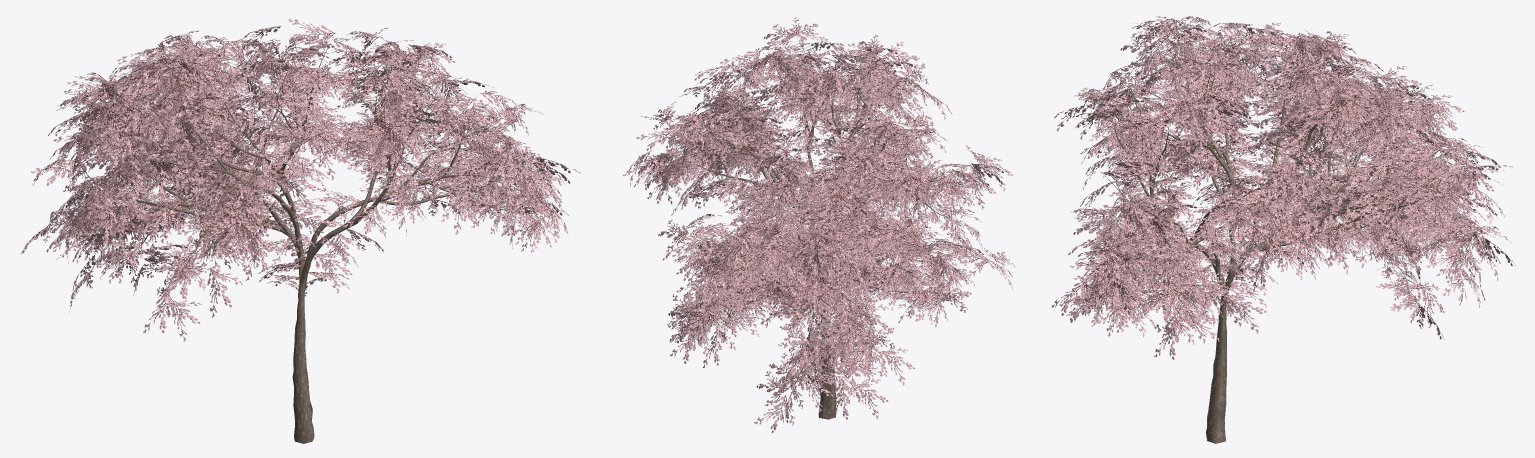
File: cherry-c.glb
The picture shows the model from 3 angles, left to right: view 1: azimuth 30°, elevation 25°; view 2: azimuth 150°, elevation 25°; view 3: azimuth 270°, elevation 25°; orthographic projection. The views are drawn at different scales.
Parts seen in each view (by area): view 1: foliage, bark; view 2: foliage, bark; view 3: foliage, bark.
Boxes of the visible parts, x1,y1,x2,y2 form: foliage: (21, 19, 580, 341); bark: (63, 35, 532, 443); foliage: (623, 17, 1015, 433); bark: (664, 38, 983, 419); foliage: (1052, 16, 1515, 359); bark: (1090, 33, 1470, 443).
Size of the model in its own units: 5.16 by 4.6 by 4.87.
2 materials, 2 textured.
